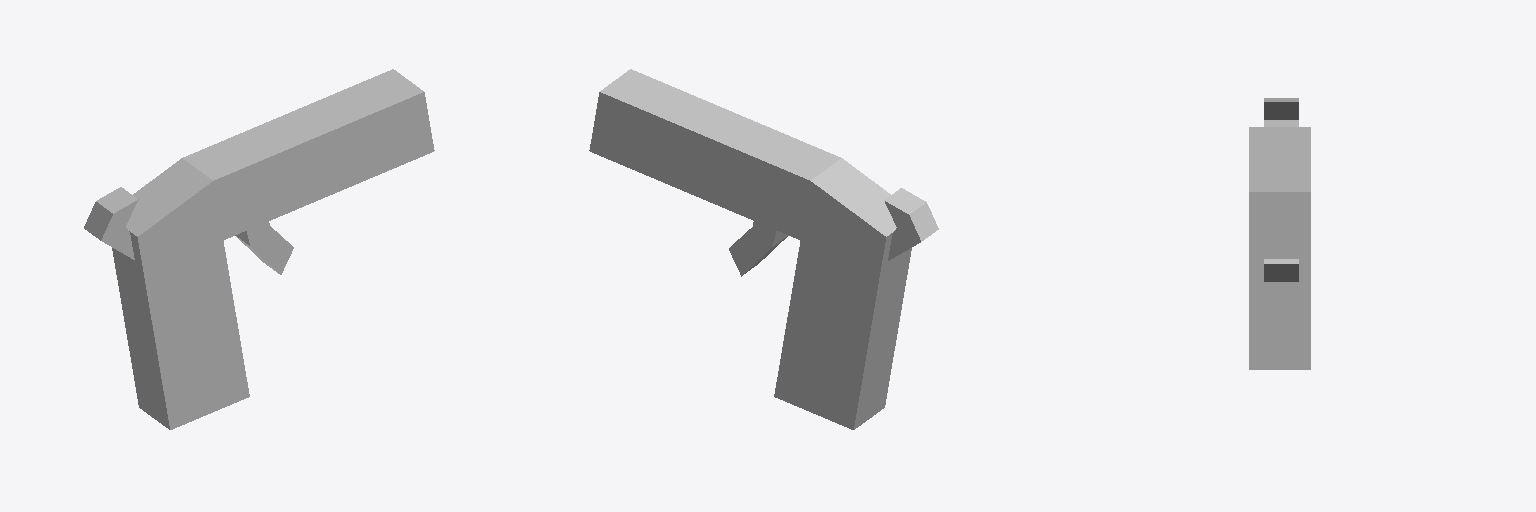
Rendered from GUN2.obj.
3 renders of one model, left to right at view 1: azimuth 30°, elevation 25°; view 2: azimuth 150°, elevation 25°; view 3: azimuth 270°, elevation 25°, orthographic.
Parts seen in each view (by area): view 1: Plane; view 2: Plane; view 3: Plane.
Boxes of the visible parts, <box> form: Plane: <box>84,69,434,429</box>; Plane: <box>589,69,938,429</box>; Plane: <box>1249,98,1310,369</box>.
Bounding box in the file's own units: 4.04 × 3.27 × 0.67.